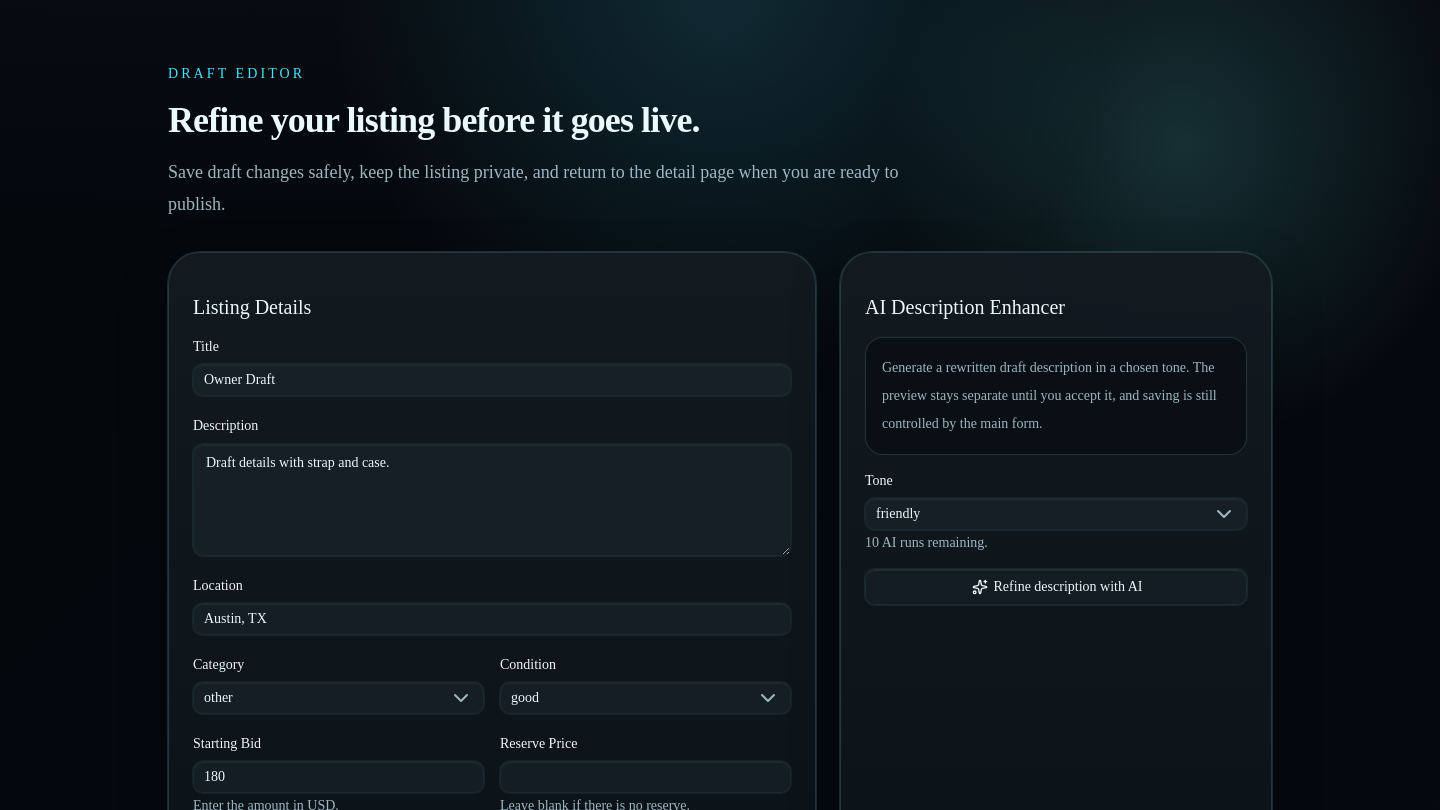
DraftListingEditor › shows recoverable AI errors and allows regeneration
Click the button "Refine description with AI" at (1056, 587), box x1=865 y1=569 x2=1247 y2=605
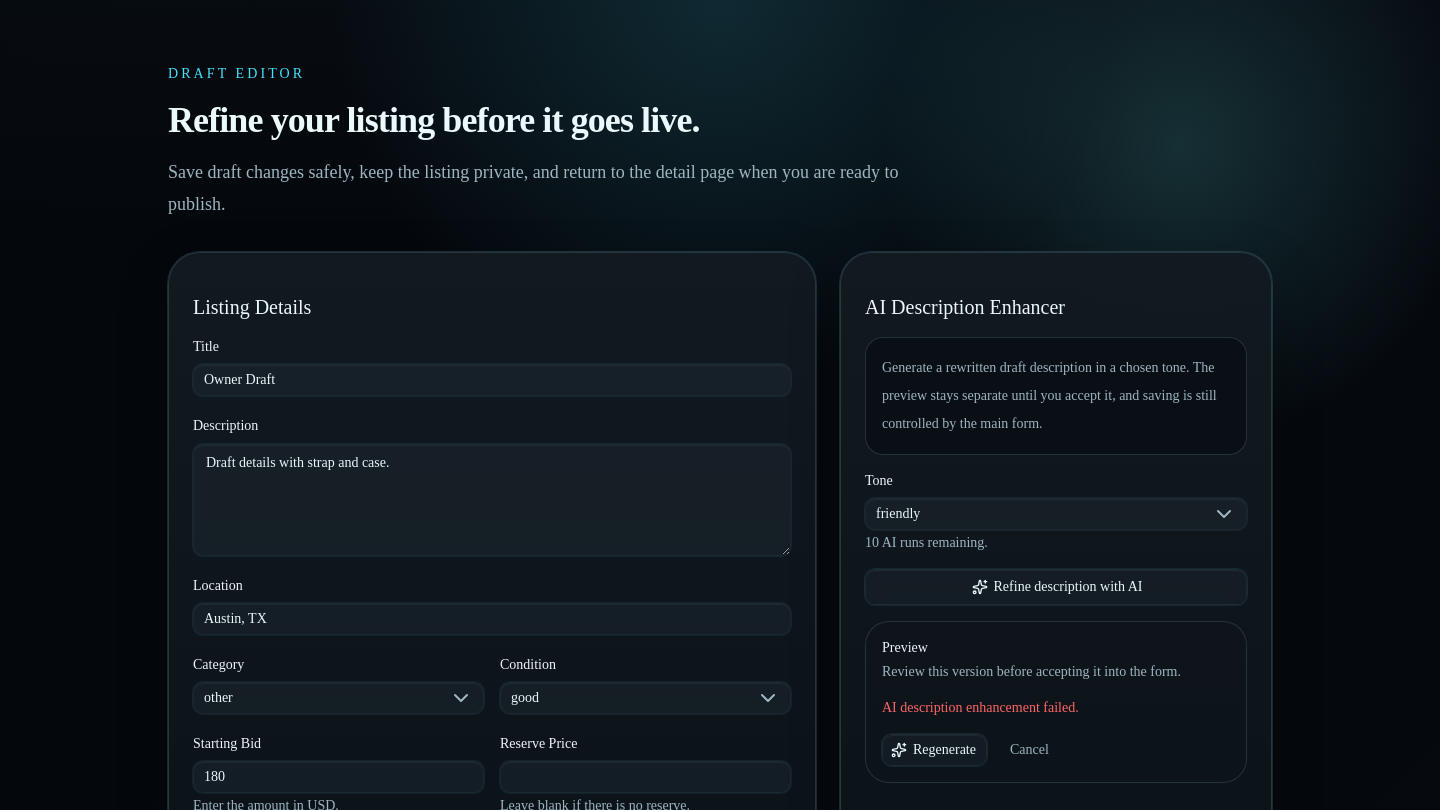
Expected: the text "AI description enhancement failed." is shown, x1=882 y1=700 x2=1079 y2=715
Click the button "Regenerate" at (934, 750), box x1=882 y1=734 x2=987 y2=766
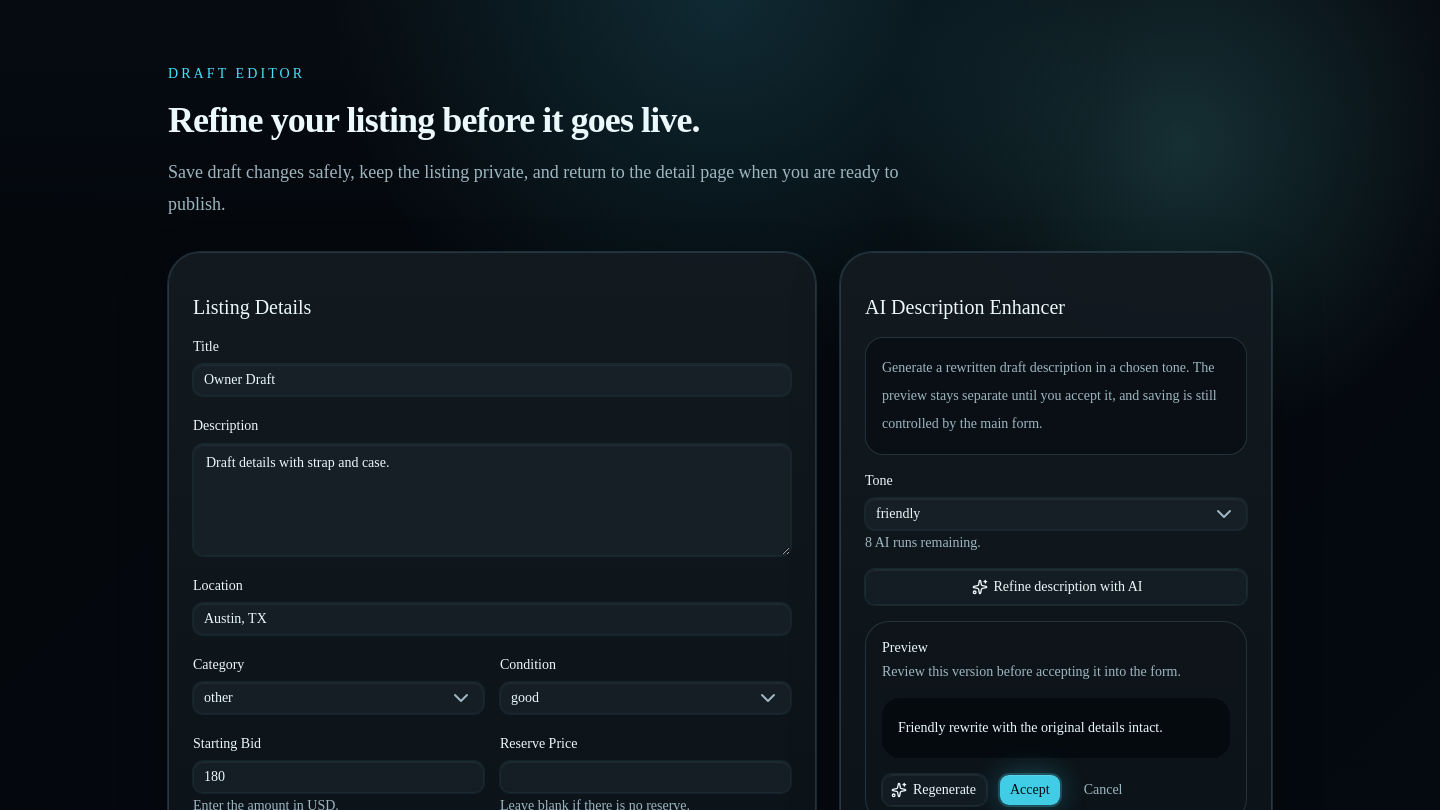
Expected: the text "Friendly rewrite with the original details intact." is shown, x1=882 y1=698 x2=1230 y2=758
Expected: the text "8 AI runs remaining." is shown, x1=865 y1=535 x2=981 y2=550
